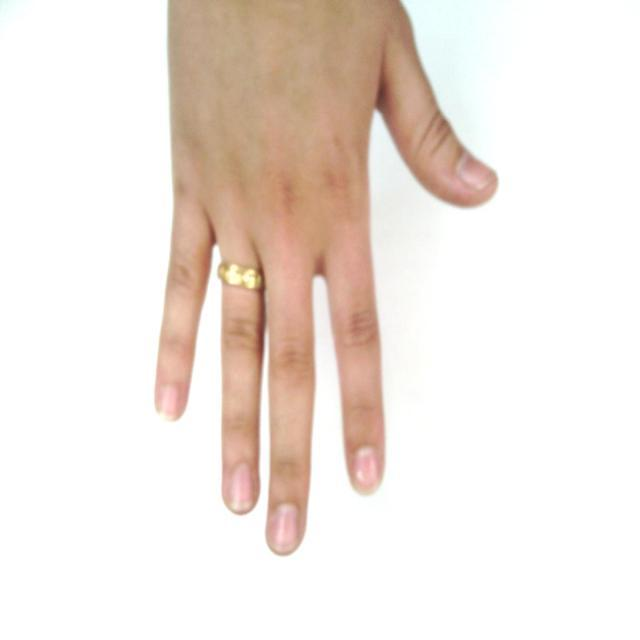Fingernail: (271, 505, 298, 553), (354, 447, 380, 496), (459, 155, 494, 190), (230, 464, 255, 512), (159, 386, 181, 420)
